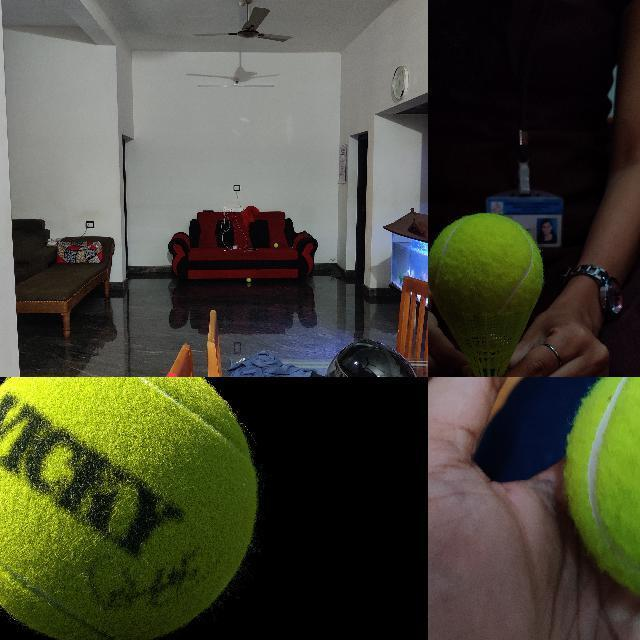tennis-ball: (0, 377, 257, 639), (565, 377, 639, 613), (428, 213, 543, 299), (274, 243, 278, 247), (246, 277, 250, 281)
